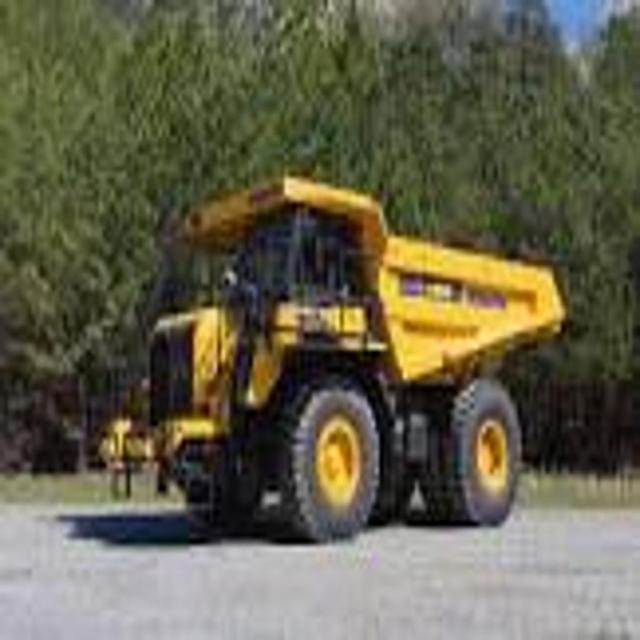dump_truck: (100, 170, 565, 545)
